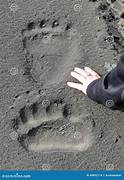bear: (10, 99, 97, 155), (18, 16, 78, 85)
